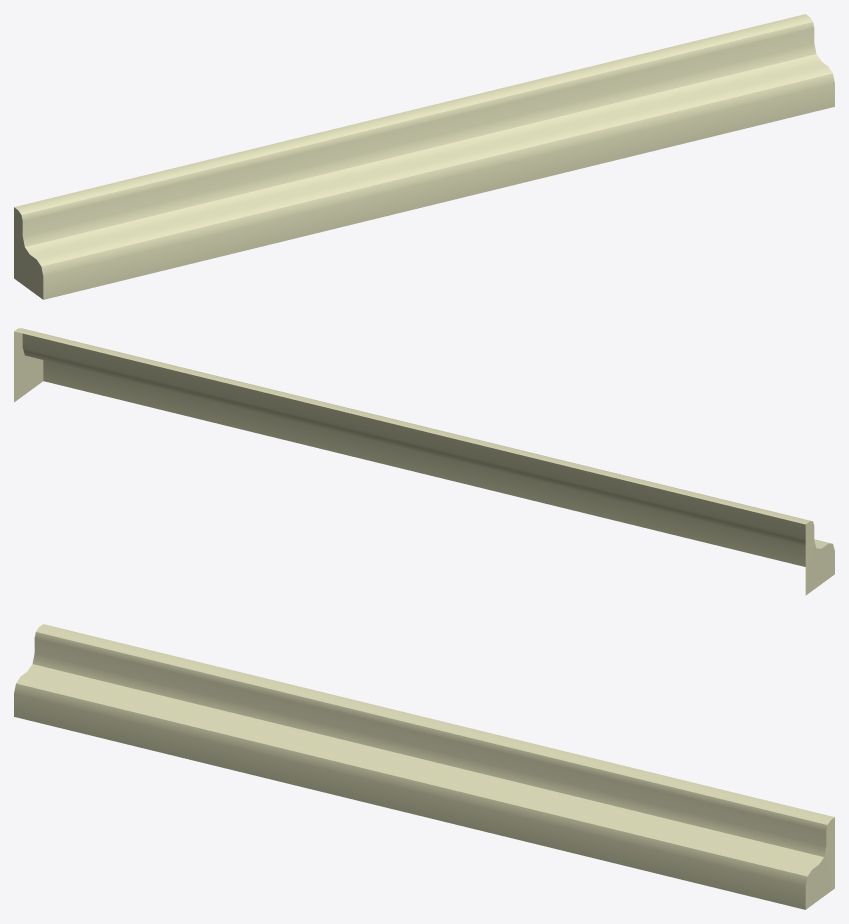
Rendered from Model_BankNormal.fbx.
3 views of the same model, one above another, from view 1: azimuth 30°, elevation 25°; view 2: azimuth 150°, elevation 25°; view 3: azimuth 330°, elevation 25° (orthographic).
Visible parts, largest first — view 1: Model_Arena_Bank; view 2: Model_Arena_Bank; view 3: Model_Arena_Bank.
Boxes of the visible parts, x1,y1,x2,y2 form: Model_Arena_Bank: (14, 14, 834, 299); Model_Arena_Bank: (14, 328, 834, 595); Model_Arena_Bank: (14, 624, 834, 909).
Bounding box in the file's own units: 11.67 × 1 × 0.75.
